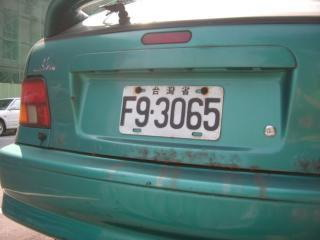plate: (120, 83, 224, 143)
